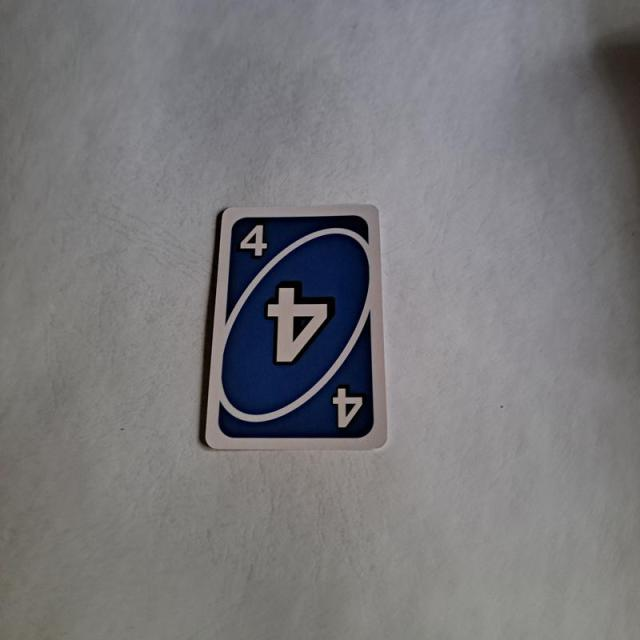Blue_Card: (214, 211, 378, 444)
Number_4: (235, 218, 272, 262)
